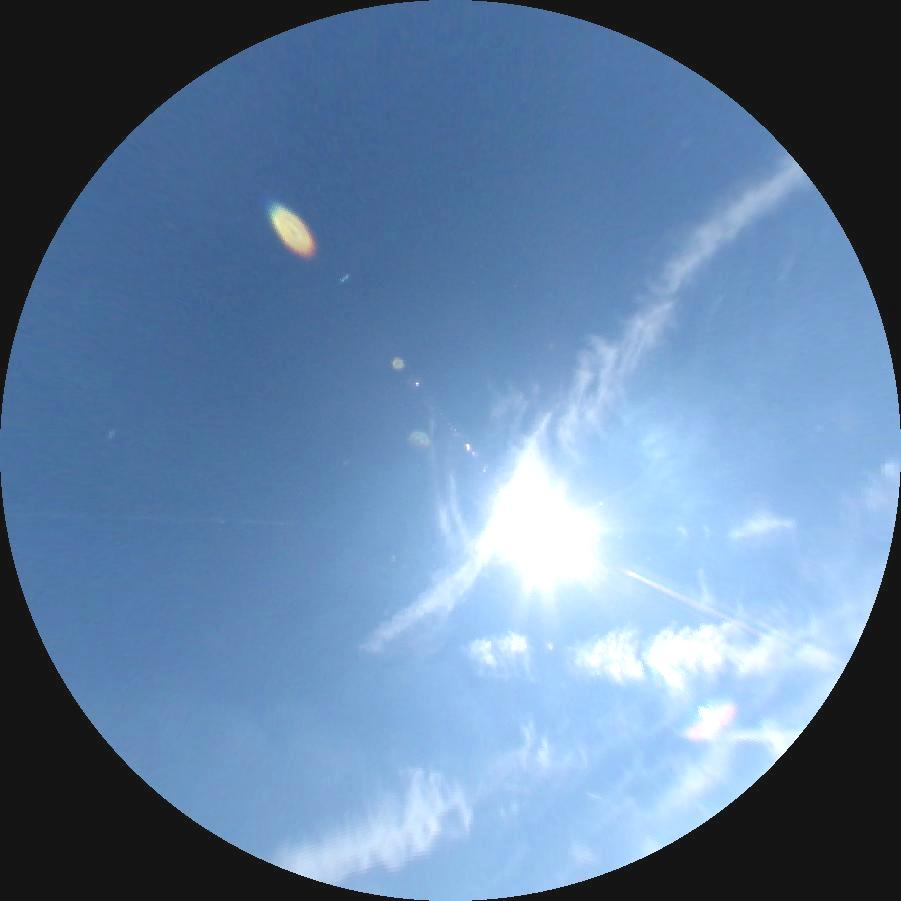contrail veryold: (334, 131, 821, 680), (467, 615, 784, 691)
parasite: (615, 563, 772, 643)
sun: (490, 485, 589, 583)
